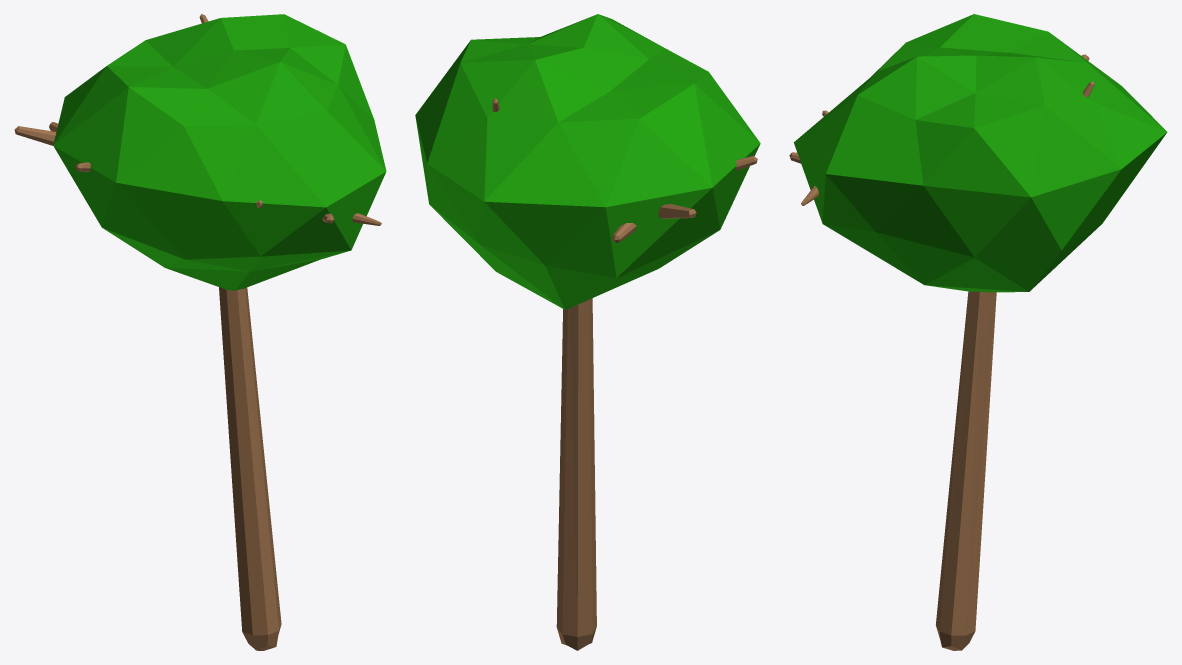
File: Tree_9.fbx
3 renders of one model, left to right at view 1: azimuth 30°, elevation 25°; view 2: azimuth 150°, elevation 25°; view 3: azimuth 270°, elevation 25°, orthographic. The views are drawn at different scales.
Parts seen in each view (by area): view 1: Tree9_mesh; view 2: Tree9_mesh; view 3: Tree9_mesh.
Boxes of the visible parts, x1,y1,x2,y2 form: Tree9_mesh: [14, 14, 386, 650]; Tree9_mesh: [415, 14, 760, 650]; Tree9_mesh: [789, 14, 1167, 650].
Bounding box in the file's own units: 200 × 385 × 222.
